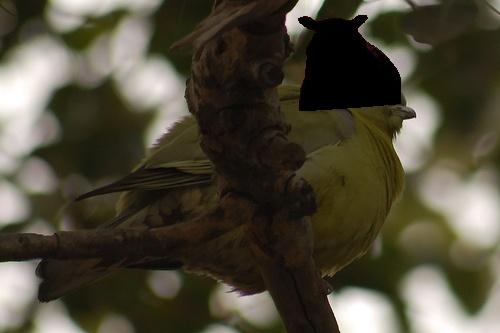tampered: (299, 16, 401, 111)
